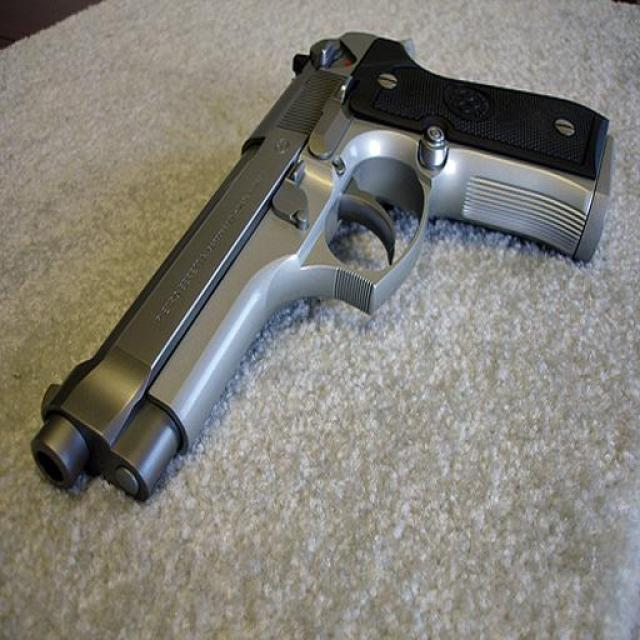pistol: (34, 29, 609, 508)
